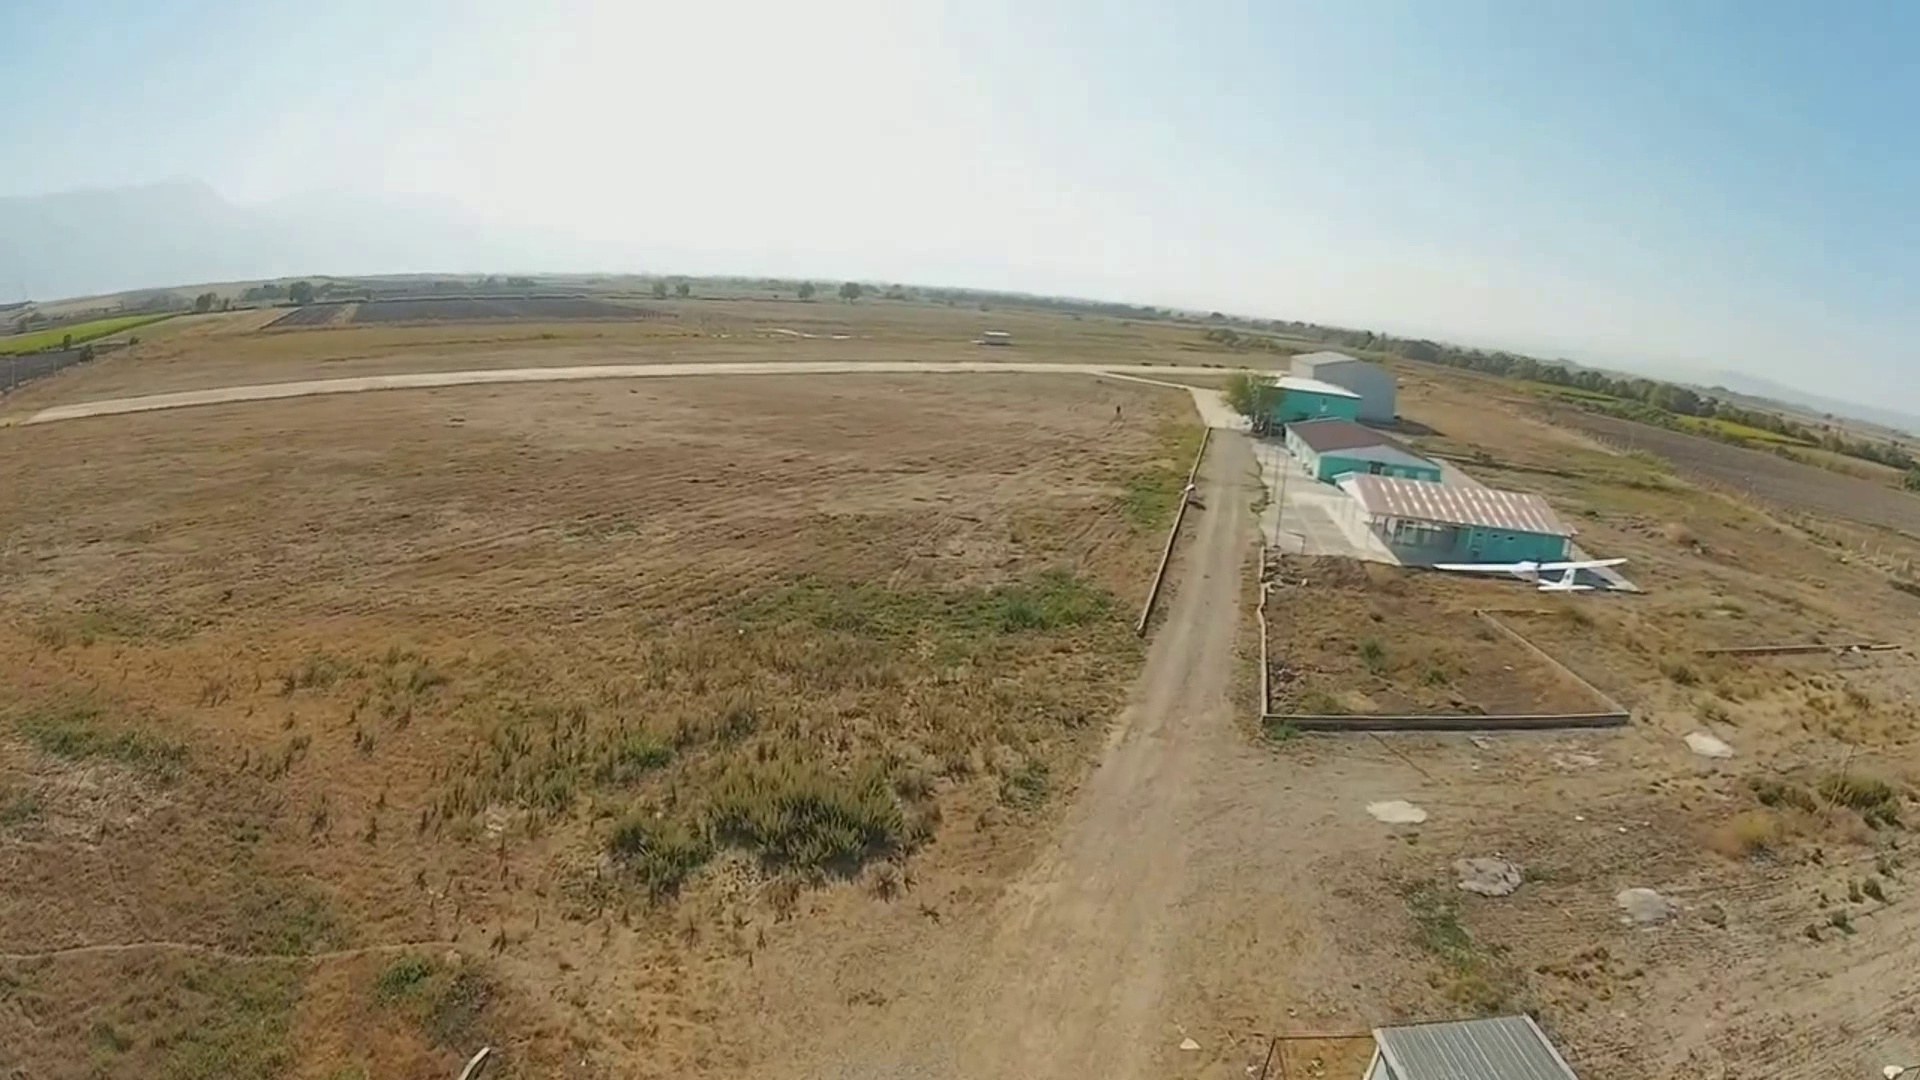airplane: (1236, 363, 1636, 589)
